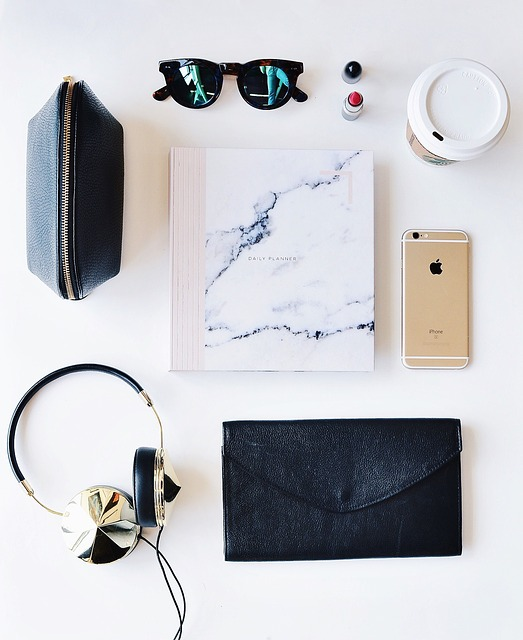headphones: (7, 363, 183, 566)
